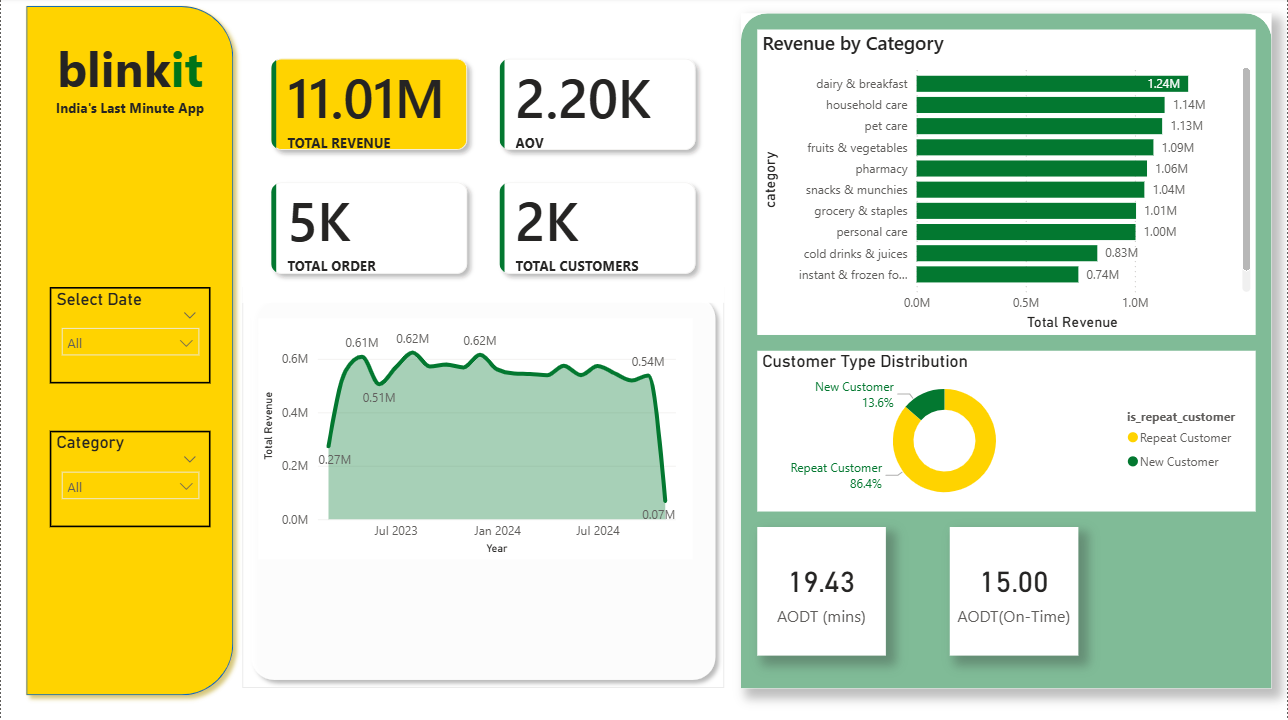

This screenshot's page, from the dashboard's own definition file:
{"tool":"powerbi","page":{"name":"Executive Overview","canvas":[1280,720],"ordinal":0},"visuals":[{"type":"shape","box":[16,0,224,704],"z":0},{"type":"shape","box":[736,16,528,672],"z":1000},{"type":"donutChart","title":"Customer Type Distribution","fields":{"Category":["final_features_bi.is_repeat_customer"],"Y":["final_features_bi.Total Orders"]},"box":[752,352,496,160],"z":2000},{"type":"shape","box":[240,288,480,400],"z":3000},{"type":"textbox","box":[48,96,160,32],"z":5000},{"type":"textbox","box":[48,32,160,96],"z":5500},{"type":"lineChart","fields":{"Y":["final_features_bi.Total Revenue"],"Category":["final_features_bi.order_date.Variation.Date Hierarchy.Year","final_features_bi.order_date.Variation.Date Hierarchy.Quarter","final_features_bi.order_date.Variation.Date Hierarchy.Month","final_features_bi.order_date.Variation.Date Hierarchy.Day"]},"box":[256,320,432,240],"z":6000},{"type":"cardVisual","fields":{"Data":["final_features_bi.Total Revenue","final_features_bi.AOV","final_features_bi.Total Orders","final_features_bi.Total Customers"]},"box":[240,32,480,272],"z":7000},{"type":"clusteredBarChart","title":"Revenue by Category","fields":{"Category":["final_features_bi.category"],"Y":["final_features_bi.Total Revenue"]},"box":[752,32,496,304],"z":8000},{"type":"card","fields":{"Values":["final_features_bi.AODT (mins)"]},"box":[752,528,128,128],"z":9000},{"type":"card","fields":{"Values":["final_features_bi.AODT(On-Time)"]},"box":[944,528,128,128],"z":10000},{"type":"slicer","title":"Select Date","fields":{"Values":["final_features_bi.order_date.Variation.Date Hierarchy.Year","final_features_bi.order_date.Variation.Date Hierarchy.Quarter","final_features_bi.order_date.Variation.Date Hierarchy.Month","final_features_bi.order_date.Variation.Date Hierarchy.Day"]},"box":[48,288,160,96],"z":12500},{"type":"slicer","title":"Category","fields":{"Values":["final_features_bi.category"]},"box":[48,432,160,96],"z":13000}]}

Visuals, with their boxes in screenshot pixels (x1, y1, x2, y2), scaled from the page's 1280x720 canvas onto the 1288x720 screenshot:
shape: (16, 0, 242, 704)
shape: (741, 16, 1272, 688)
"Customer Type Distribution" donutChart: (757, 352, 1256, 512)
shape: (242, 288, 725, 688)
textbox: (48, 96, 209, 128)
textbox: (48, 32, 209, 128)
lineChart - final_features_bi.Total Revenue x final_features_bi.order_date.Variation.Date Hierarchy.Year: (258, 320, 692, 560)
cardVisual - final_features_bi.Total Revenue x final_features_bi.AOV: (242, 32, 725, 304)
"Revenue by Category" clusteredBarChart: (757, 32, 1256, 336)
card - final_features_bi.AODT (mins): (757, 528, 886, 656)
card - final_features_bi.AODT(On-Time): (950, 528, 1079, 656)
"Select Date" slicer: (48, 288, 209, 384)
"Category" slicer: (48, 432, 209, 528)
